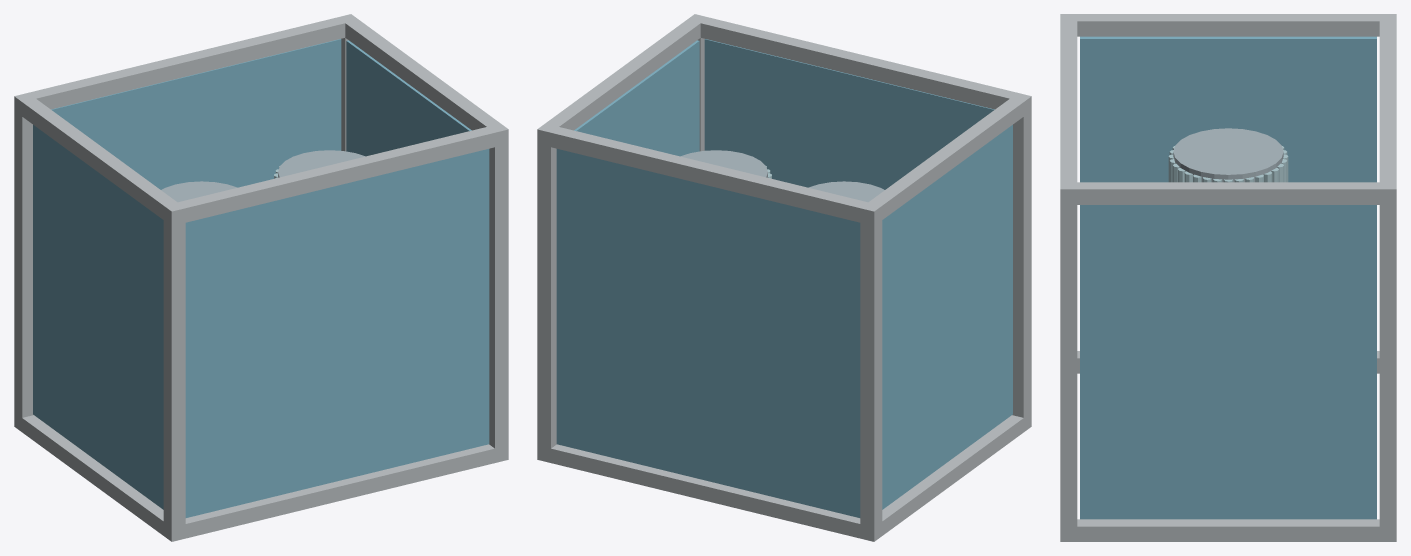
The model's file is 46_L77_PostCMPBrushCleaningChamber.glb.
3 renders of one model, left to right at view 1: azimuth 30°, elevation 25°; view 2: azimuth 150°, elevation 25°; view 3: azimuth 270°, elevation 25°, orthographic. The views are drawn at different scales.
Visible parts, largest first — view 1: PostCMPBrushCleaningChamber_Node_0013, PostCMPBrushCleaningChamber_Node_0014, PostCMPBrushCleaningChamber_Node_0012, PostCMPBrushCleaningChamber_Node_0015, PostCMPBrushCleaningChamber_Node_0001, PostCMPBrushCleaningChamber_Node_0009, PostCMPBrushCleaningChamber_Node_0008, PostCMPBrushCleaningChamber_Node_0005, PostCMPBrushCleaningChamber_Node_0003, PostCMPBrushCleaningChamber_Node_0000, PostCMPBrushCleaningChamber_Node_0010, PostCMPBrushCleaningChamber_Node_0011 (+4 smaller); view 2: PostCMPBrushCleaningChamber_Node_0012, PostCMPBrushCleaningChamber_Node_0014, PostCMPBrushCleaningChamber_Node_0013, PostCMPBrushCleaningChamber_Node_0015, PostCMPBrushCleaningChamber_Node_0000, PostCMPBrushCleaningChamber_Node_0008, PostCMPBrushCleaningChamber_Node_0009, PostCMPBrushCleaningChamber_Node_0004, PostCMPBrushCleaningChamber_Node_0002, PostCMPBrushCleaningChamber_Node_0001, PostCMPBrushCleaningChamber_Node_0010, PostCMPBrushCleaningChamber_Node_0011 (+4 smaller); view 3: PostCMPBrushCleaningChamber_Node_0015, PostCMPBrushCleaningChamber_Node_0014, PostCMPBrushCleaningChamber_Node_0007, PostCMPBrushCleaningChamber_Node_0011, PostCMPBrushCleaningChamber_Node_0010, PostCMPBrushCleaningChamber_Node_0003, PostCMPBrushCleaningChamber_Node_0002, PostCMPBrushCleaningChamber_Node_0016, PostCMPBrushCleaningChamber_Node_0008, PostCMPBrushCleaningChamber_Node_0009.
Boxes of the visible parts, bbox=[...] form: PostCMPBrushCleaningChamber_Node_0013: bbox=[185, 149, 489, 517]; PostCMPBrushCleaningChamber_Node_0014: bbox=[33, 125, 163, 509]; PostCMPBrushCleaningChamber_Node_0012: bbox=[51, 39, 341, 189]; PostCMPBrushCleaningChamber_Node_0015: bbox=[346, 40, 471, 156]; PostCMPBrushCleaningChamber_Node_0001: bbox=[163, 202, 185, 541]; PostCMPBrushCleaningChamber_Node_0009: bbox=[163, 123, 508, 225]; PostCMPBrushCleaningChamber_Node_0008: bbox=[14, 15, 356, 115]; PostCMPBrushCleaningChamber_Node_0005: bbox=[164, 444, 508, 541]; PostCMPBrushCleaningChamber_Node_0003: bbox=[487, 124, 508, 462]; PostCMPBrushCleaningChamber_Node_0000: bbox=[14, 94, 33, 431]; PostCMPBrushCleaningChamber_Node_0010: bbox=[14, 95, 182, 225]; PostCMPBrushCleaningChamber_Node_0011: bbox=[339, 14, 508, 146]; PostCMPBrushCleaningChamber_Node_0012: bbox=[556, 149, 860, 517]; PostCMPBrushCleaningChamber_Node_0014: bbox=[882, 125, 1012, 509]; PostCMPBrushCleaningChamber_Node_0013: bbox=[704, 39, 994, 189]; PostCMPBrushCleaningChamber_Node_0015: bbox=[574, 40, 699, 156]; PostCMPBrushCleaningChamber_Node_0000: bbox=[860, 202, 882, 541]; PostCMPBrushCleaningChamber_Node_0008: bbox=[537, 123, 881, 222]; PostCMPBrushCleaningChamber_Node_0009: bbox=[688, 16, 1031, 115]; PostCMPBrushCleaningChamber_Node_0004: bbox=[537, 444, 881, 541]; PostCMPBrushCleaningChamber_Node_0002: bbox=[537, 124, 558, 462]; PostCMPBrushCleaningChamber_Node_0001: bbox=[1012, 93, 1031, 431]; PostCMPBrushCleaningChamber_Node_0010: bbox=[862, 95, 1031, 223]; PostCMPBrushCleaningChamber_Node_0011: bbox=[537, 15, 707, 146]; PostCMPBrushCleaningChamber_Node_0015: bbox=[1080, 205, 1376, 519]; PostCMPBrushCleaningChamber_Node_0014: bbox=[1080, 36, 1376, 182]; PostCMPBrushCleaningChamber_Node_0007: bbox=[1060, 519, 1396, 541]; PostCMPBrushCleaningChamber_Node_0011: bbox=[1060, 182, 1395, 204]; PostCMPBrushCleaningChamber_Node_0010: bbox=[1060, 14, 1396, 36]; PostCMPBrushCleaningChamber_Node_0003: bbox=[1060, 182, 1077, 541]; PostCMPBrushCleaningChamber_Node_0002: bbox=[1379, 182, 1396, 541]; PostCMPBrushCleaningChamber_Node_0016: bbox=[1173, 128, 1283, 182]; PostCMPBrushCleaningChamber_Node_0008: bbox=[1379, 14, 1396, 204]; PostCMPBrushCleaningChamber_Node_0009: bbox=[1060, 14, 1077, 204].
Bounding box in the file's own units: 1.58 × 1.48 × 1.28.
